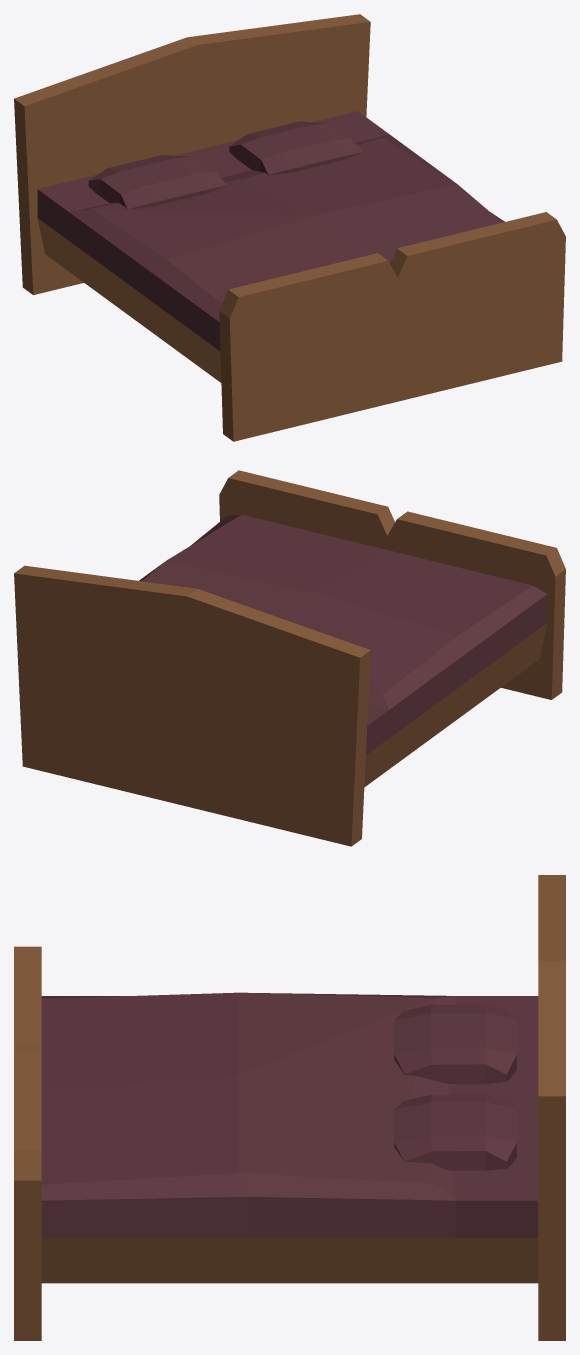
The model's file is bed-big-wood.fbx.
The picture shows the model from 3 angles, top to bottom: view 1: azimuth 30°, elevation 25°; view 2: azimuth 150°, elevation 25°; view 3: azimuth 270°, elevation 25°; orthographic projection. The views are drawn at different scales.
Parts seen in each view (by area): view 1: bed-big-wood; view 2: bed-big-wood; view 3: bed-big-wood.
Part boxes in pixels (x1,y1,x2,y2): bed-big-wood: [14, 14, 565, 441]; bed-big-wood: [14, 470, 565, 846]; bed-big-wood: [14, 875, 565, 1340].
Size of the model in its own units: 1.9 by 1.1 by 2.
